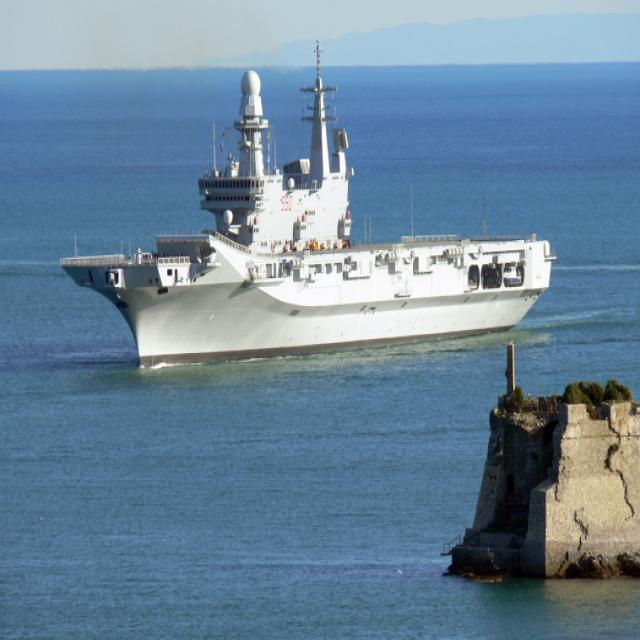Portanaves: (59, 34, 560, 385)
